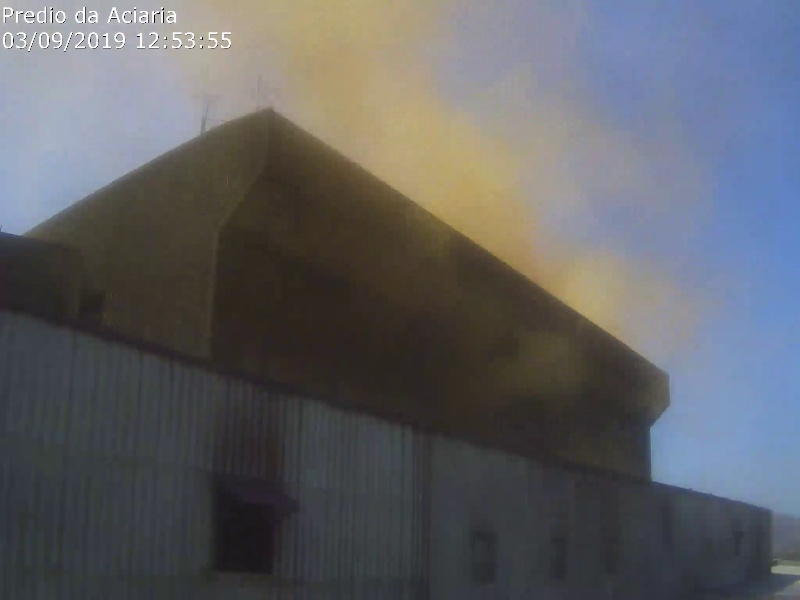pessimo: (436, 60, 723, 431), (198, 1, 455, 333)
